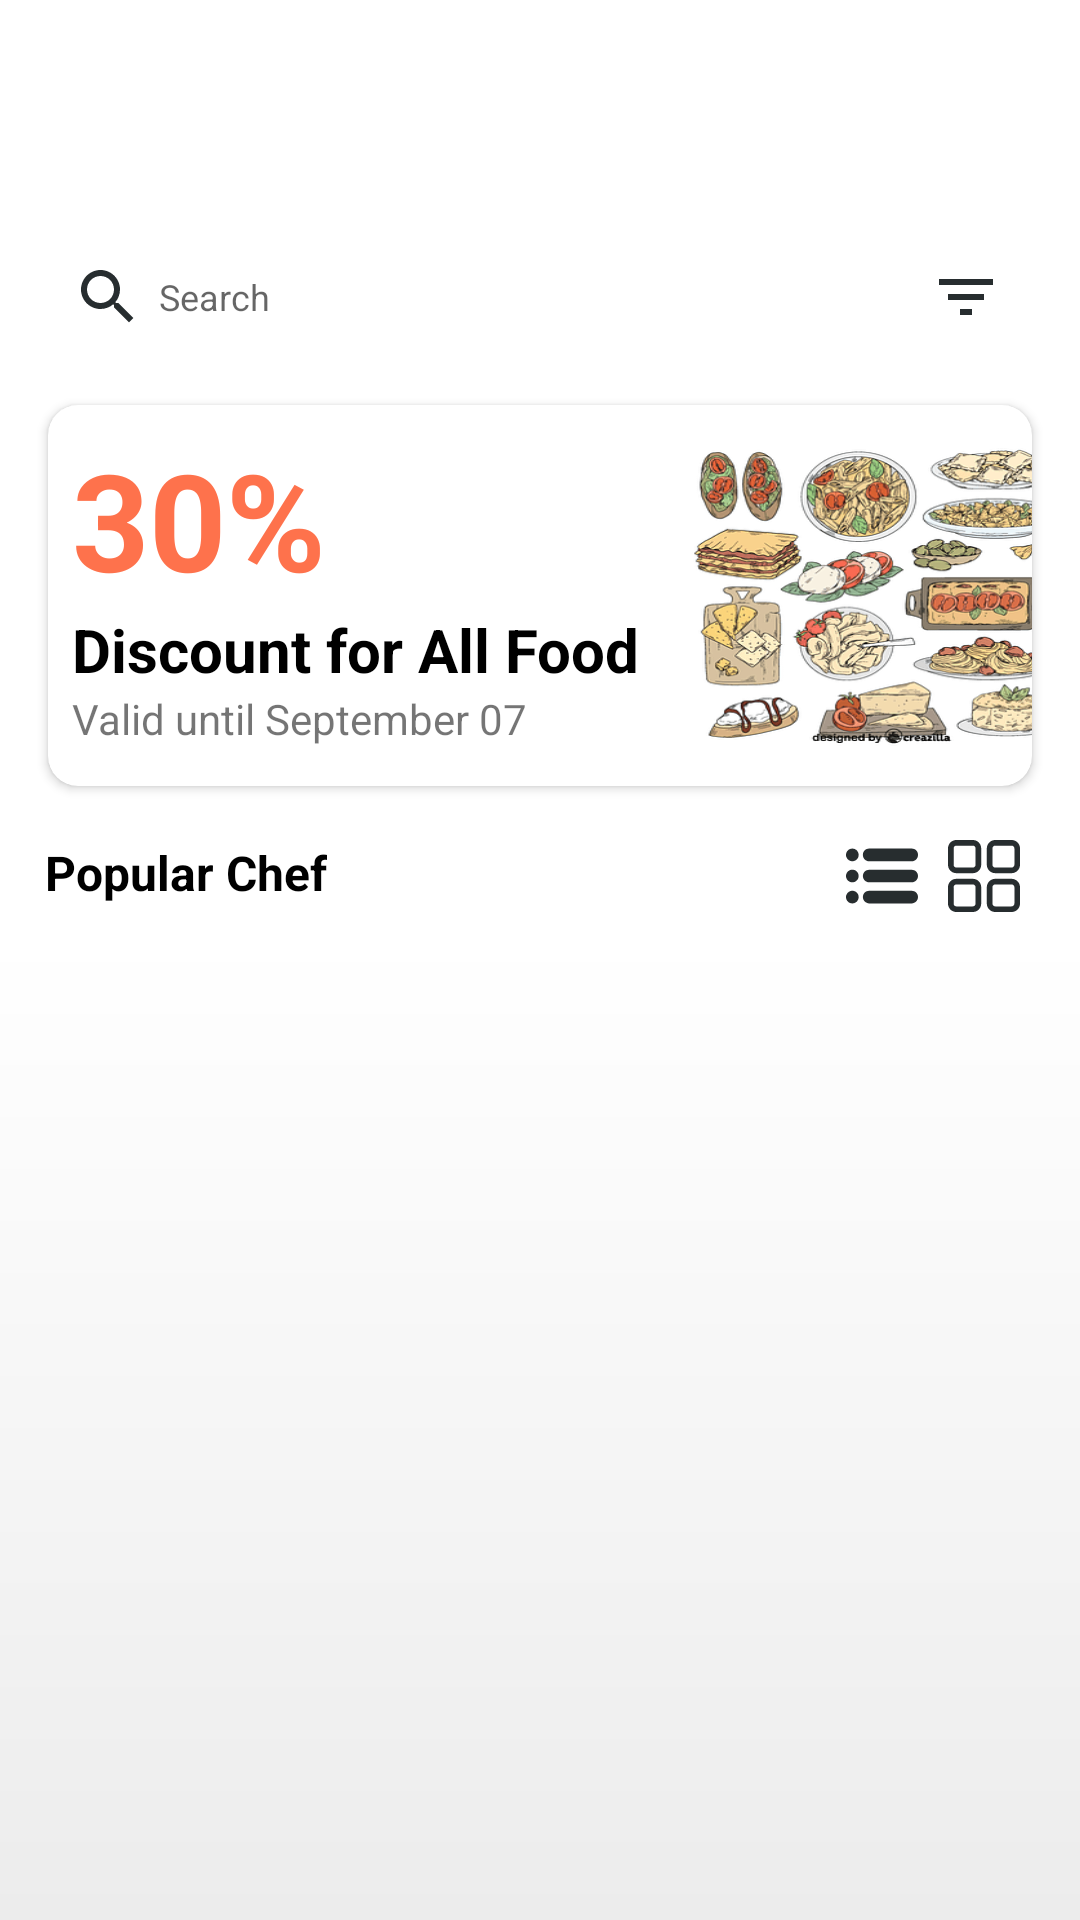

Icons on this 1080×1920 Android screen, each with the point to tap as [x,y]:
filter list: [966,297]
